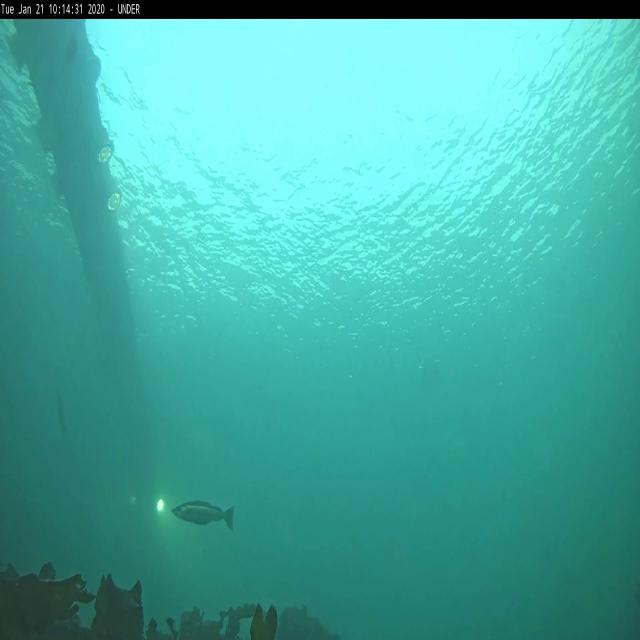fish: (174, 500, 234, 529), (55, 392, 69, 437)
